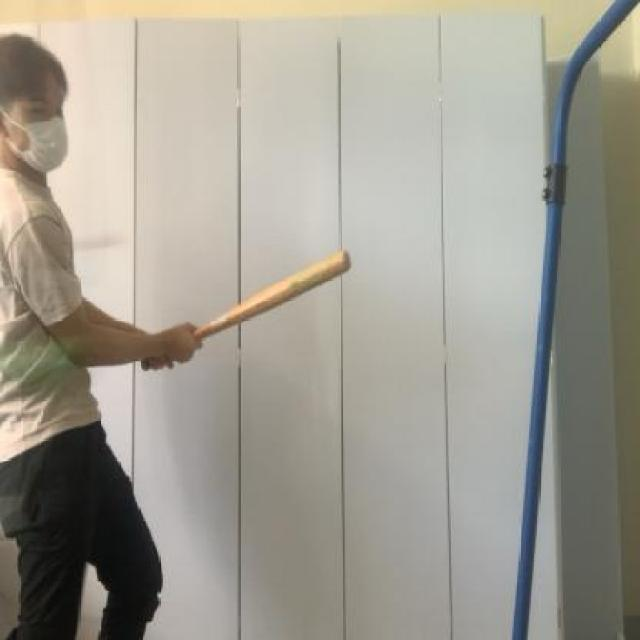baseball: (0, 310, 123, 402)
